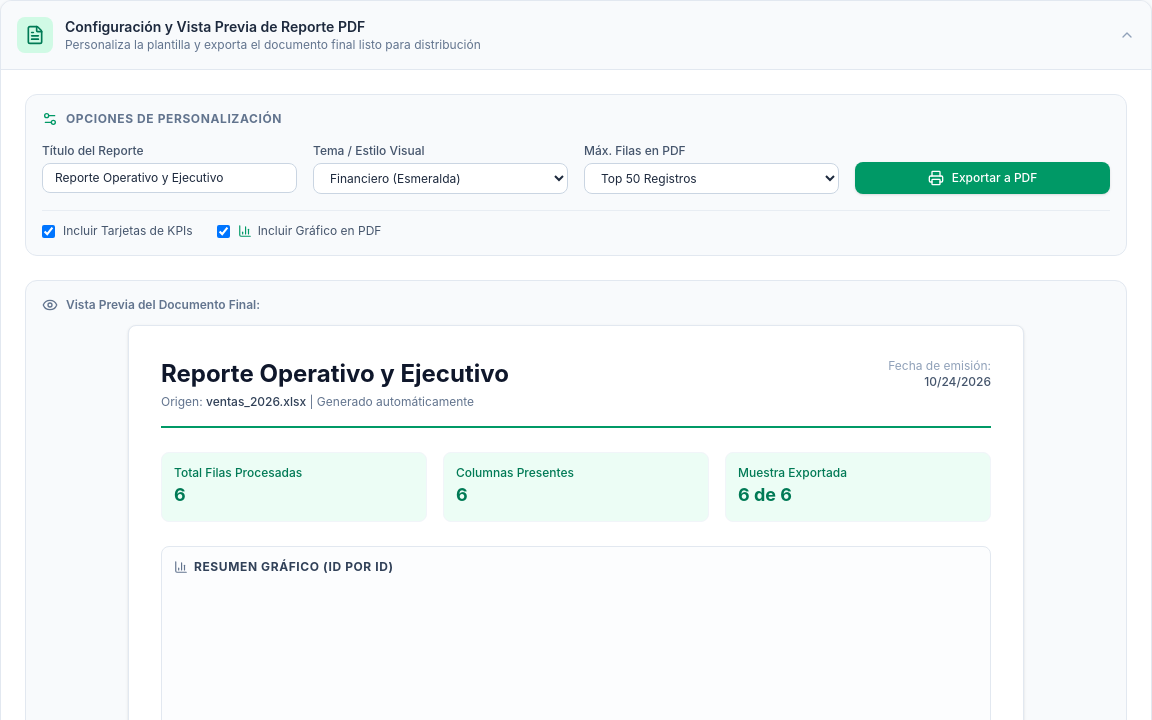
Test case: Componente PdfReport › debe actualizar el título del reporte en tiempo real al editar el input
The width and height of the screenshot is (1152, 720).
Replace the text in the field showing "Reporte Operativo y Ejecutivo" with "Informe Trimestral Q1". click: x=170, y=178
box: [42,163,297,193]
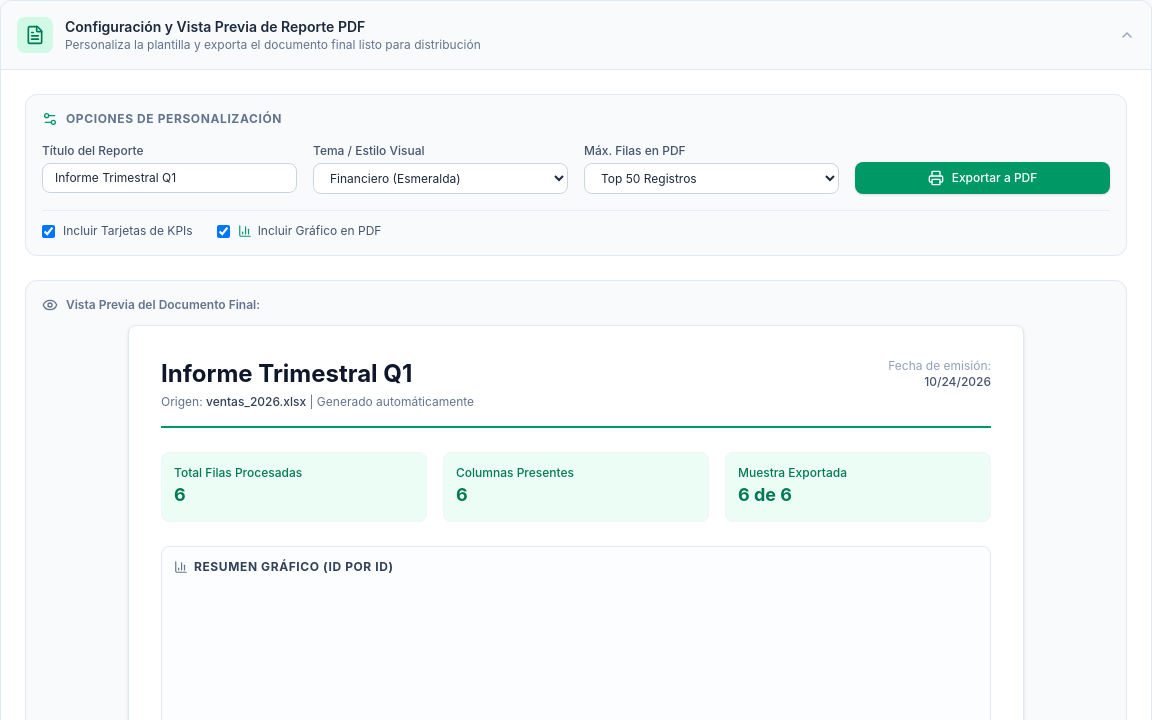
Expected: the heading "Informe Trimestral Q1" is shown, [161,359,412,388]
